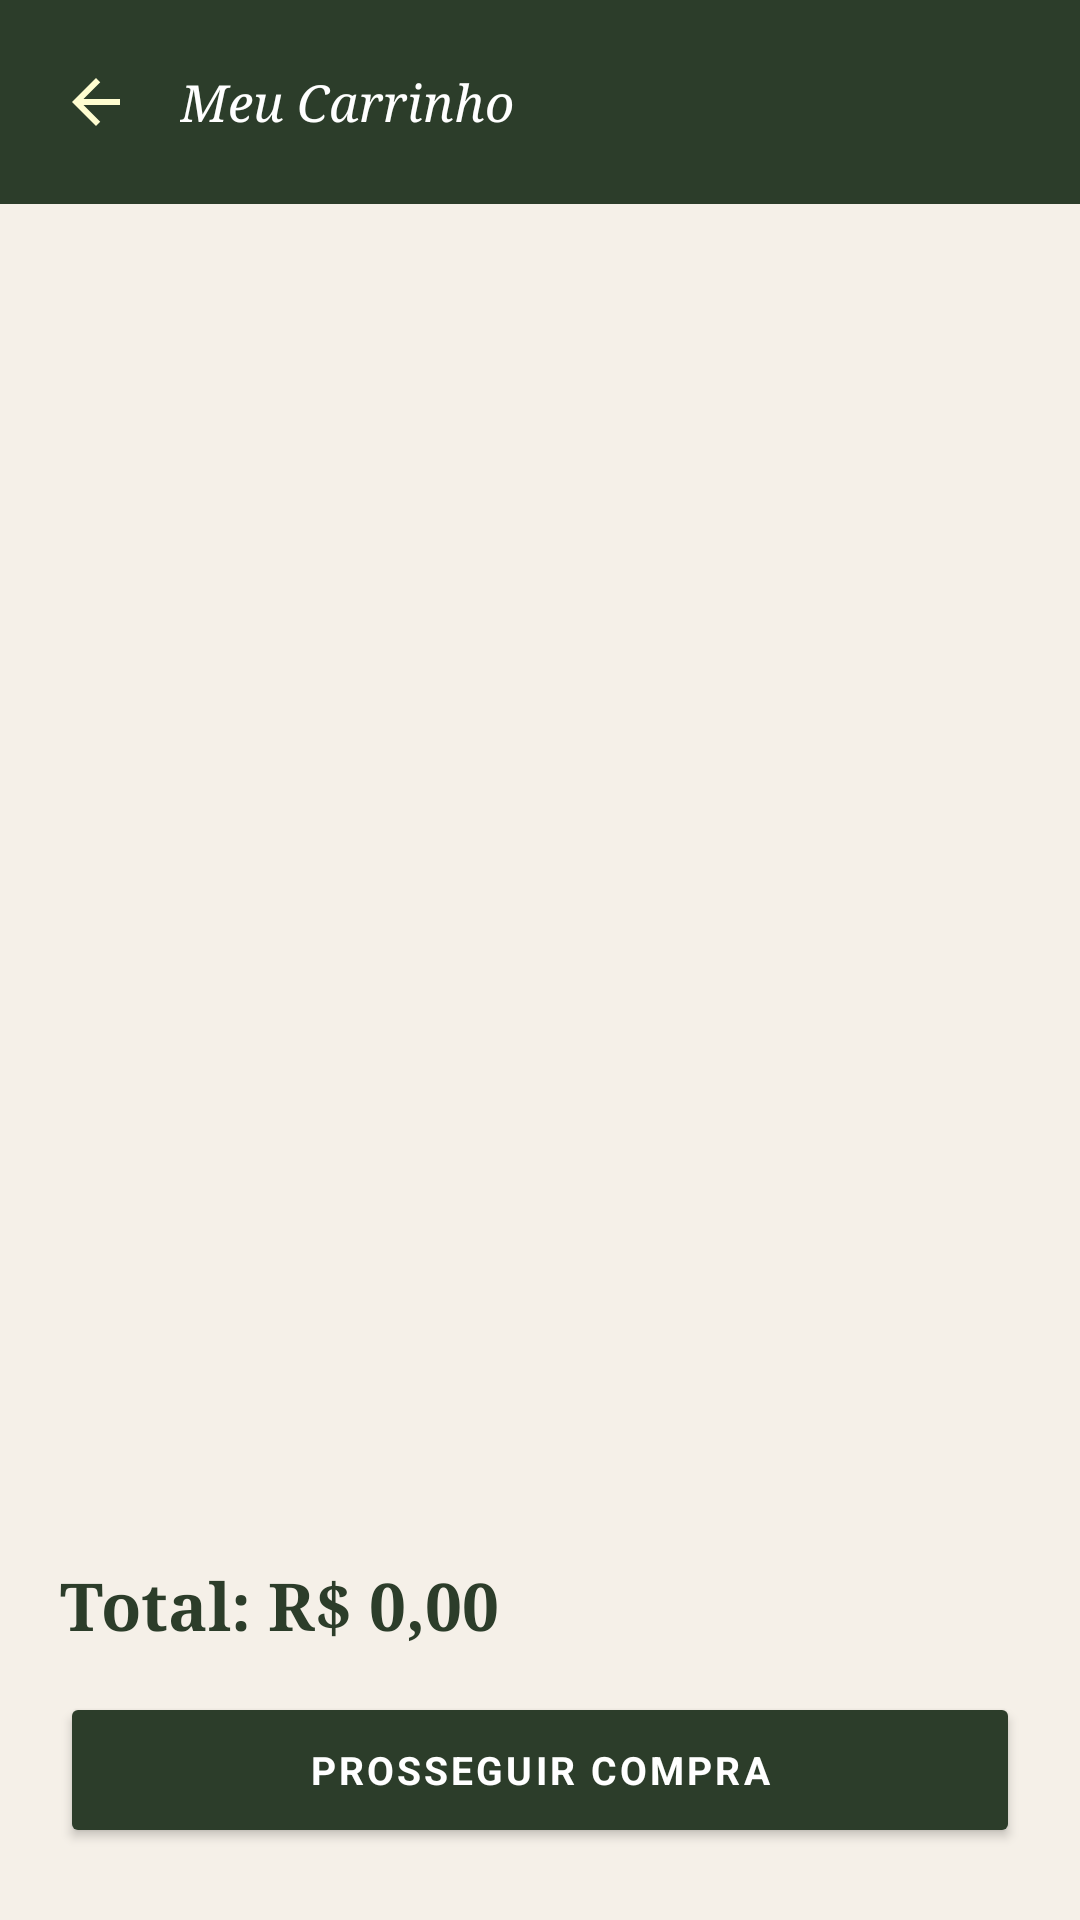

Icon click points for this 1080×1920 phone screenshot, format [x,y]:
Voltar: [96,102]
